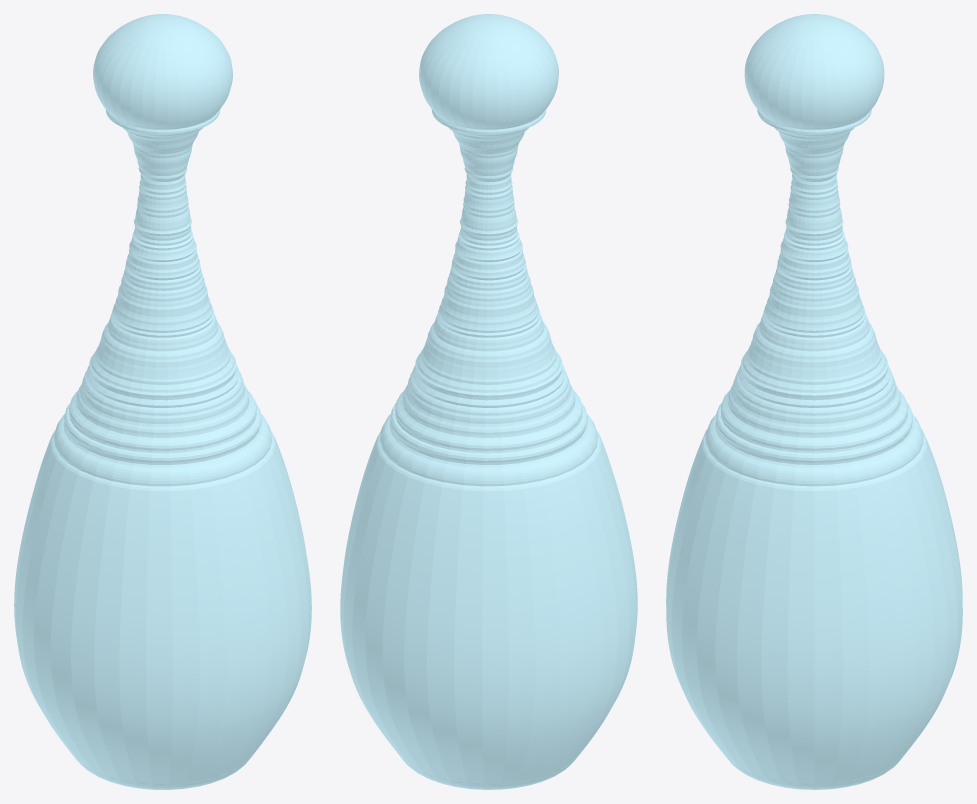
The picture shows the model from 3 angles, left to right: view 1: azimuth 30°, elevation 25°; view 2: azimuth 150°, elevation 25°; view 3: azimuth 270°, elevation 25°; orthographic projection.
Visible parts, largest first — view 1: fles; view 2: fles; view 3: fles.
Part boxes in pixels (x1,y1,x2,y2): fles: (14, 14, 311, 789); fles: (340, 14, 637, 789); fles: (666, 14, 962, 789).
Size of the model in its own units: 0.132 by 0.3603 by 0.1316.
